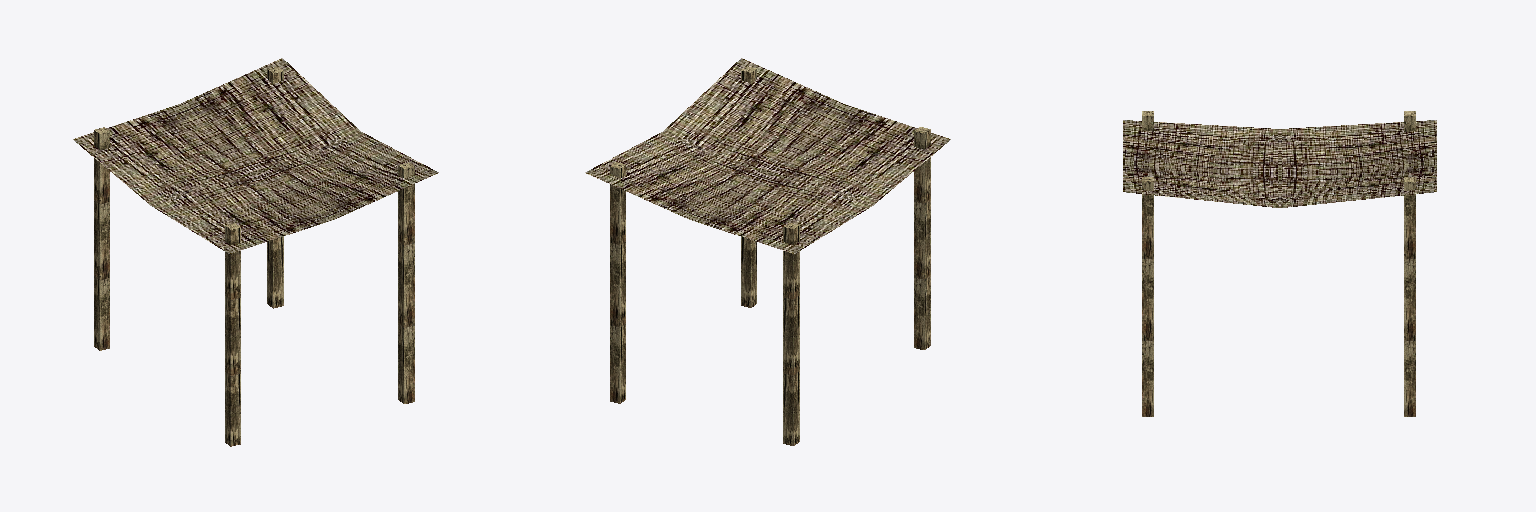
3 views of the same model, side by side, from view 1: azimuth 30°, elevation 25°; view 2: azimuth 150°, elevation 25°; view 3: azimuth 270°, elevation 25° (orthographic).
Visible parts, largest first — view 1: Mesh_0, Mesh_1; view 2: Mesh_0, Mesh_1; view 3: Mesh_0, Mesh_1.
Boxes of the visible parts, <box> form: Mesh_0: <box>73,58,438,253</box>; Mesh_1: <box>94,67,414,446</box>; Mesh_0: <box>585,58,950,253</box>; Mesh_1: <box>610,66,930,445</box>; Mesh_0: <box>1123,120,1436,207</box>; Mesh_1: <box>1142,111,1415,416</box>.
Bounding box in the file's own units: 3.1 × 3.32 × 4.01.
2 materials, 2 textured.